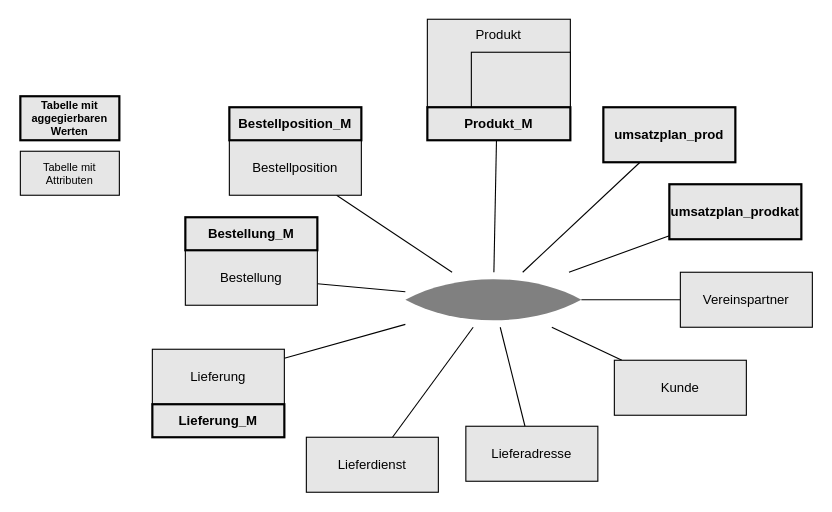
This 832x512 diagram has some shape labels left out. The centre of each missing label's shape, as x and y in pixels:
"_bridge_willibald" goes at point 493,299.
"Kategorie hierarchie" goes at point 520,79.
